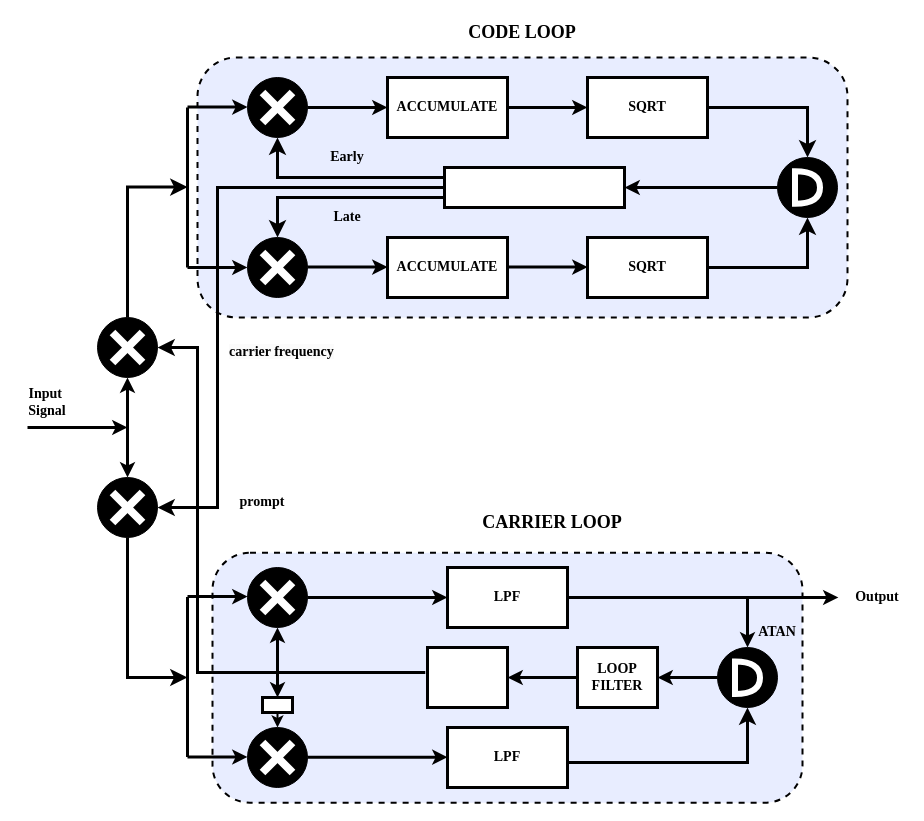
Image size: 924x821. Some labels were removed from this diagram. The centre of each missing label's shape, as x and y in pixels:
"90 o" goes at pixel 277 705.
"Early/Delay Select" goes at pixel 534 187.
"NCO" goes at pixel 467 677.
